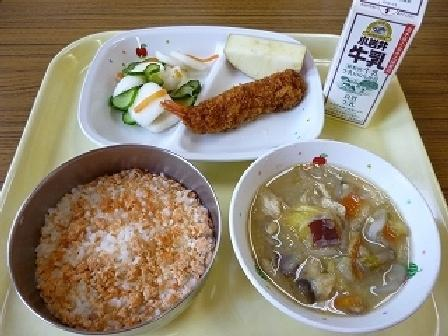Apple: (216, 22, 307, 78)
Milk: (316, 0, 428, 119)
Mixed rice: (13, 148, 223, 322)
Salad: (114, 44, 186, 119)
Soups: (243, 140, 422, 311)
seafood: (170, 61, 315, 137)
